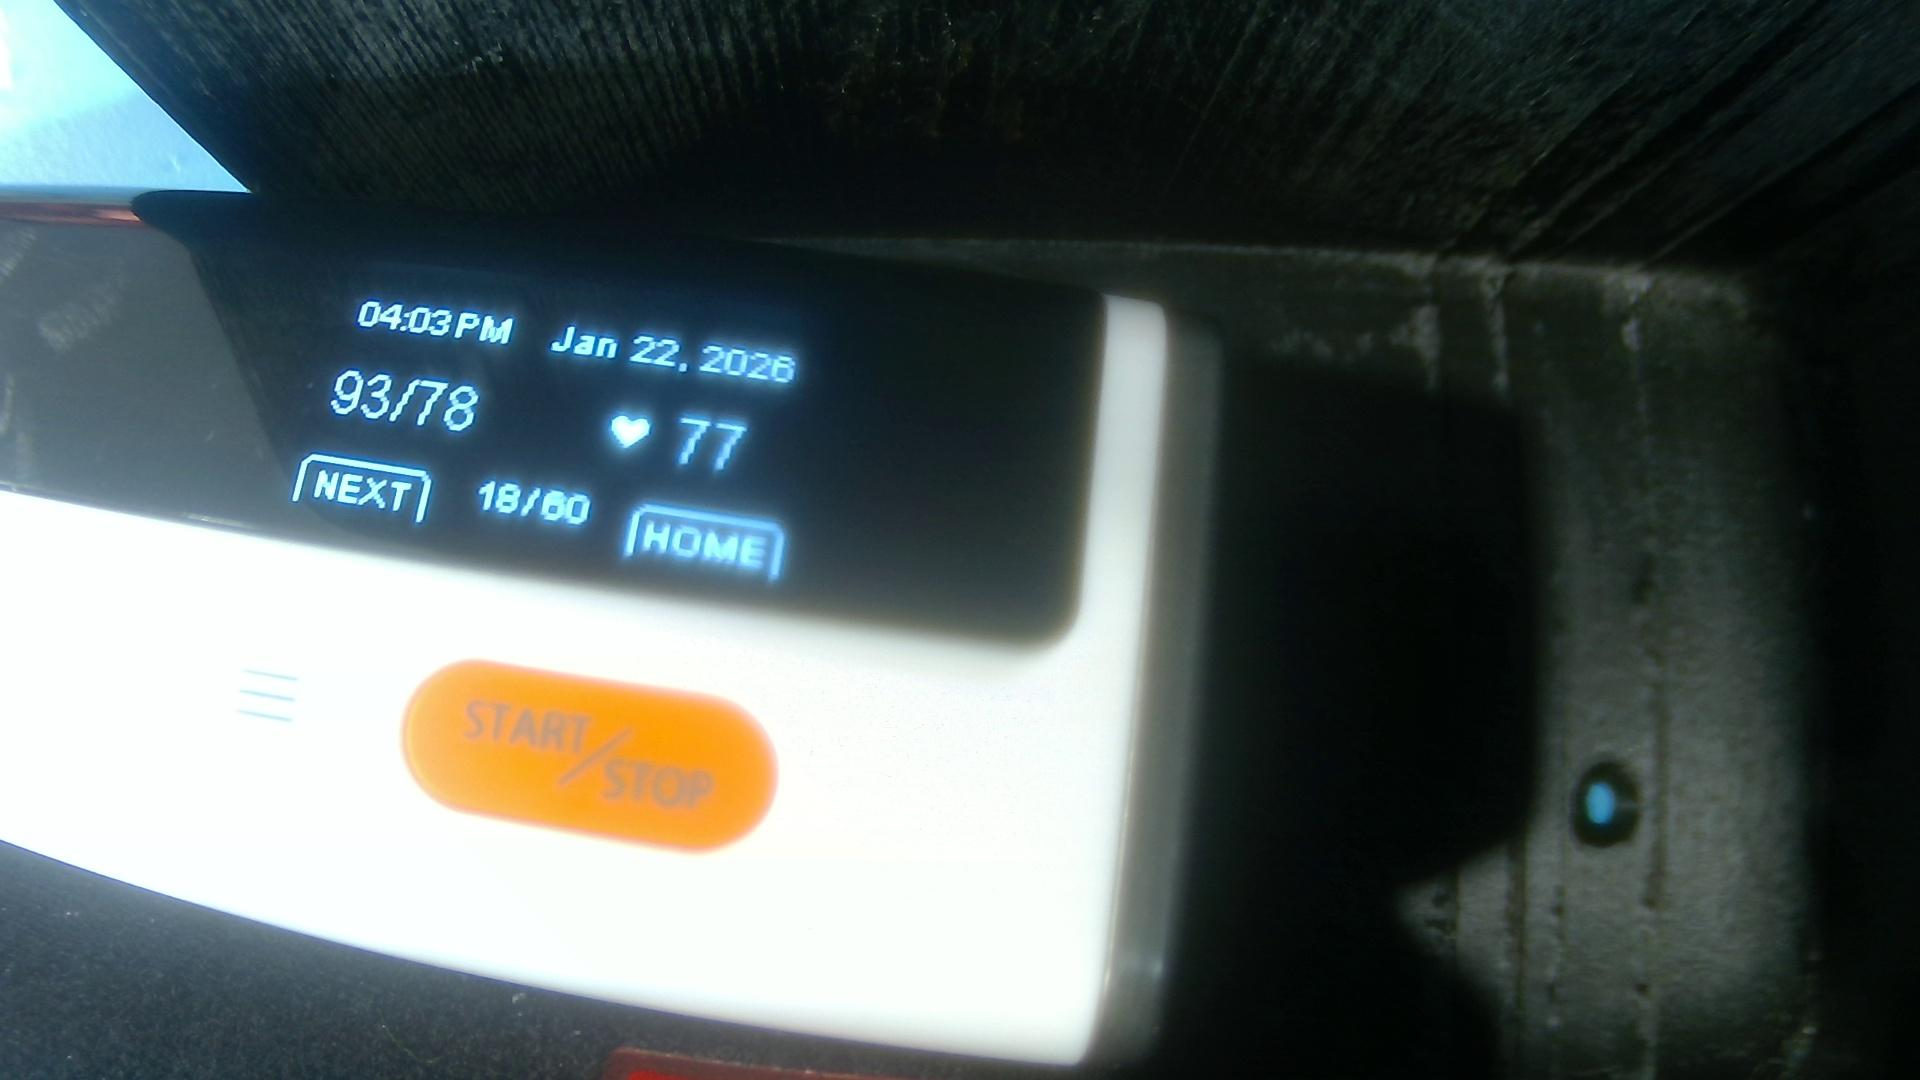DISPLAY: (11, 190, 1097, 625)
